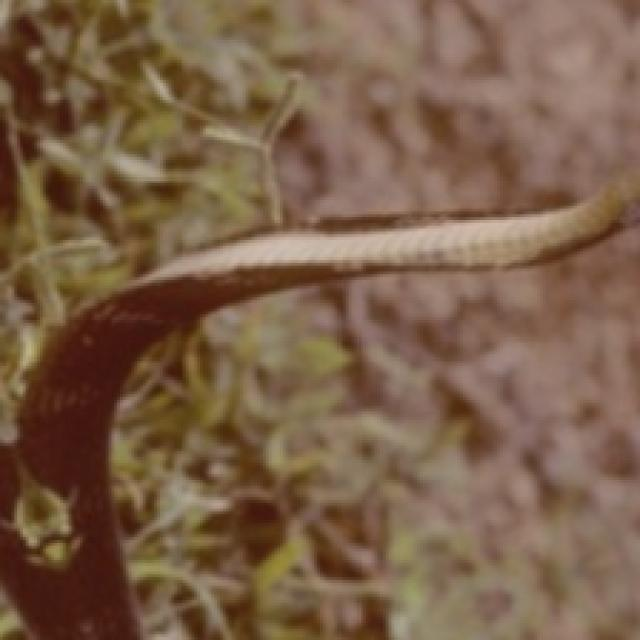king cobra: (0, 171, 637, 637)
